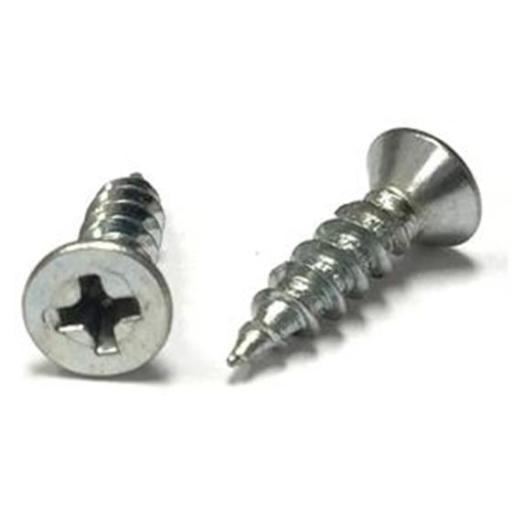Phillips: (23, 240, 172, 380)
